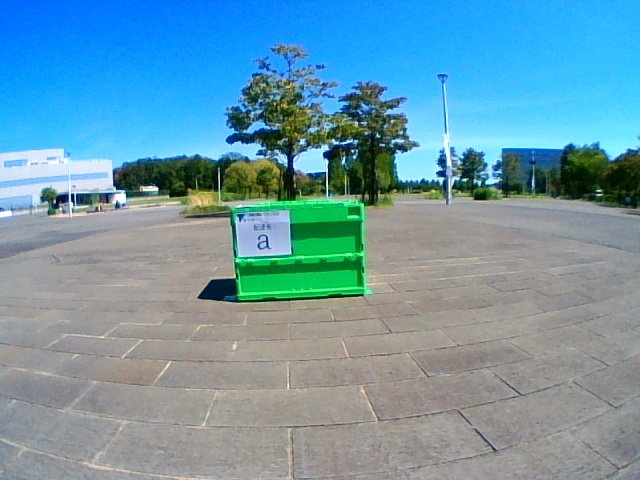green_box: (230, 200, 366, 300)
tag_a: (237, 212, 290, 255)
